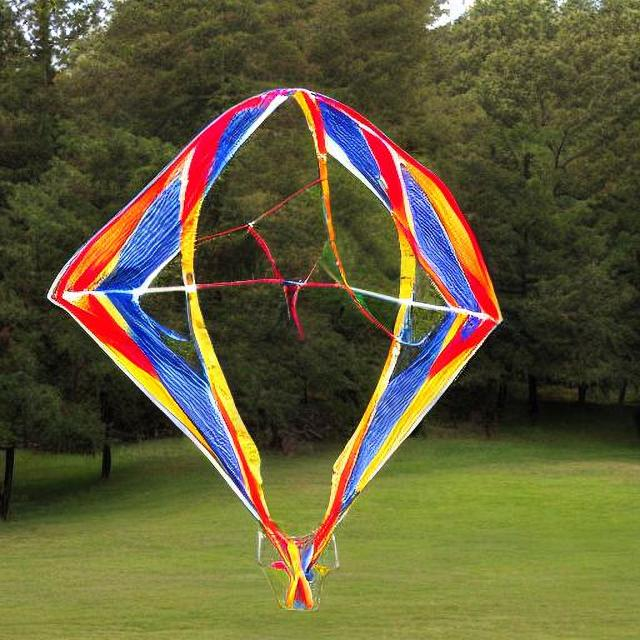floating object: (38, 70, 514, 592)
